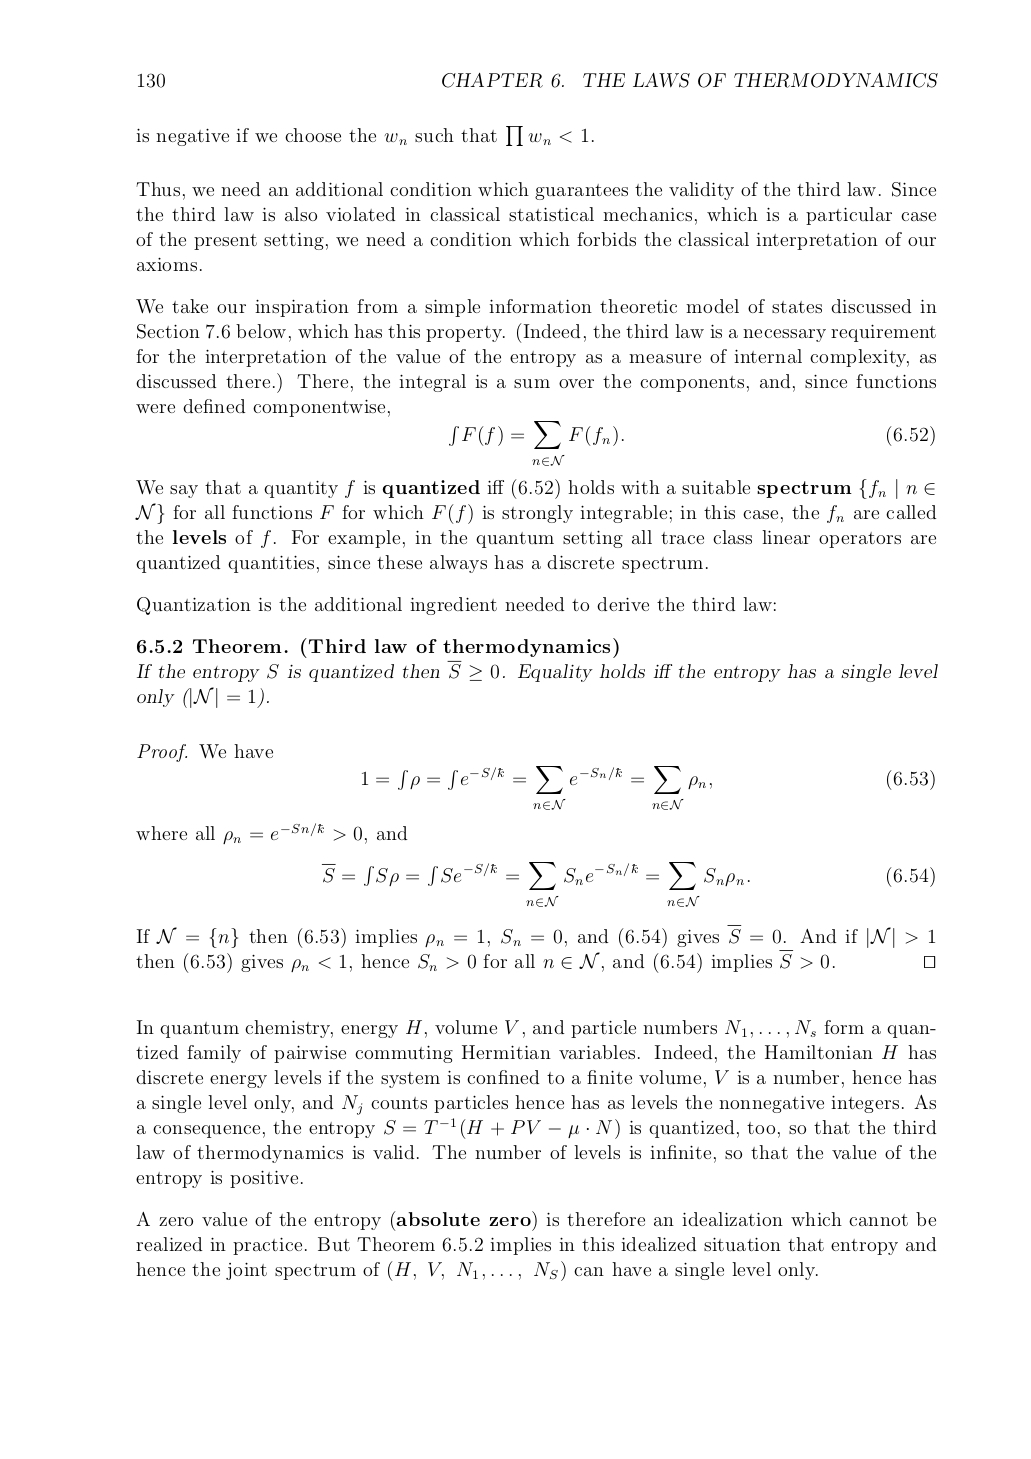formula: (321, 862, 934, 906), (362, 766, 934, 809), (449, 421, 934, 465)
